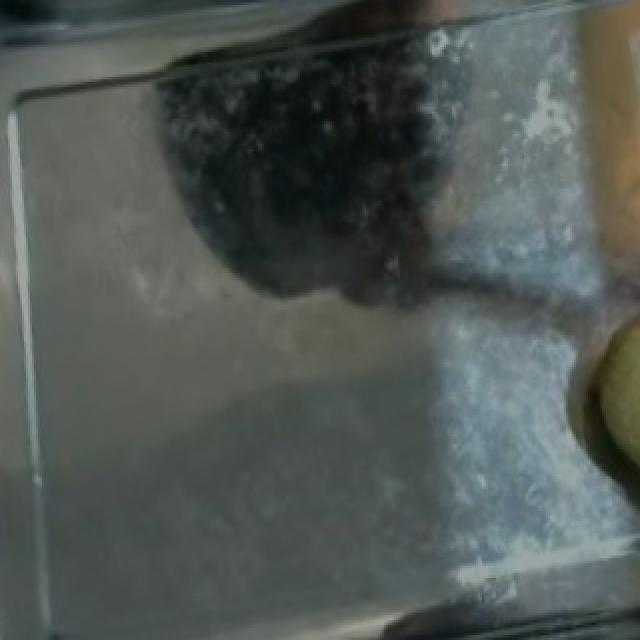Fruit: (556, 0, 640, 305), (568, 287, 640, 508)
